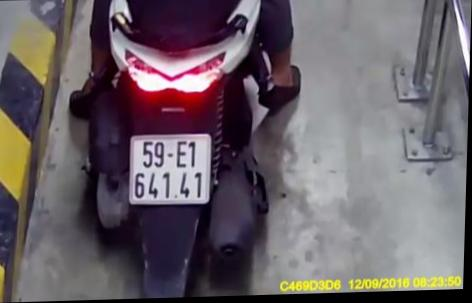LP: (129, 134, 213, 207)
